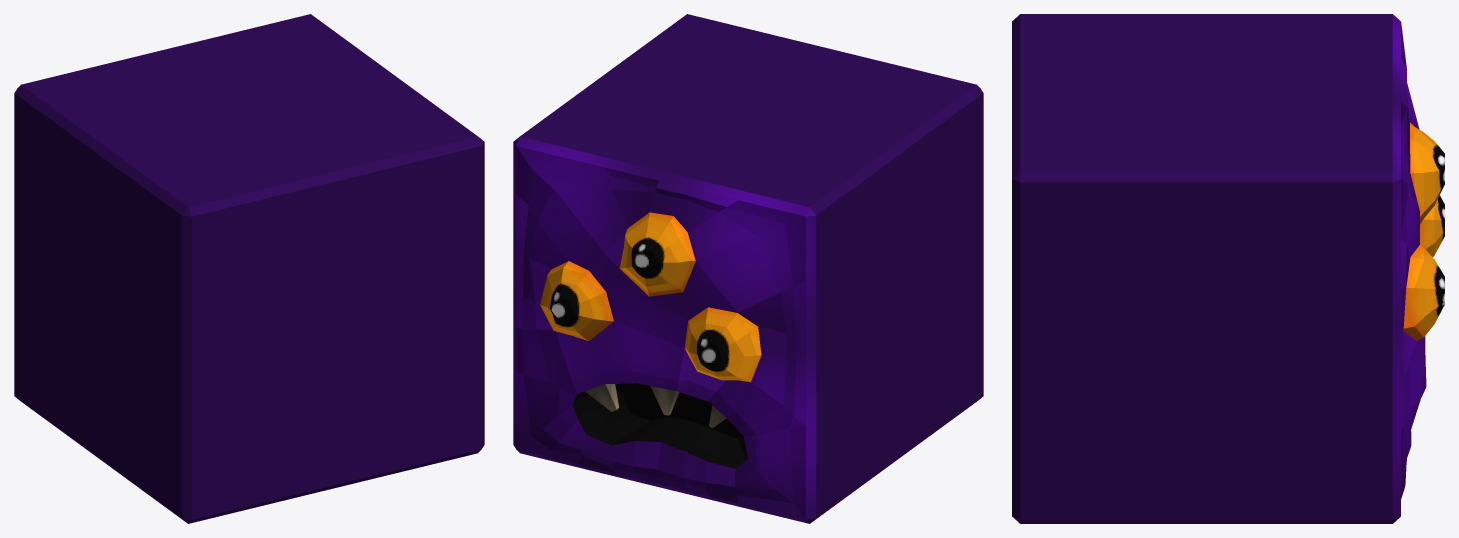
The model's file is Block Assets ThreeEyes.fbx.
3 views of the same model, side by side, from view 1: azimuth 30°, elevation 25°; view 2: azimuth 150°, elevation 25°; view 3: azimuth 270°, elevation 25° (orthographic). The views are drawn at different scales.
Visible parts, largest first — view 1: Block ThreeEyes; view 2: Block ThreeEyes; view 3: Block ThreeEyes.
Part boxes in pixels (left/top/right/bottom): Block ThreeEyes: left=14, top=14, right=484, bottom=523; Block ThreeEyes: left=513, top=14, right=983, bottom=523; Block ThreeEyes: left=1012, top=14, right=1444, bottom=523.
Size of the model in its own units: 1 by 1 by 1.11.
